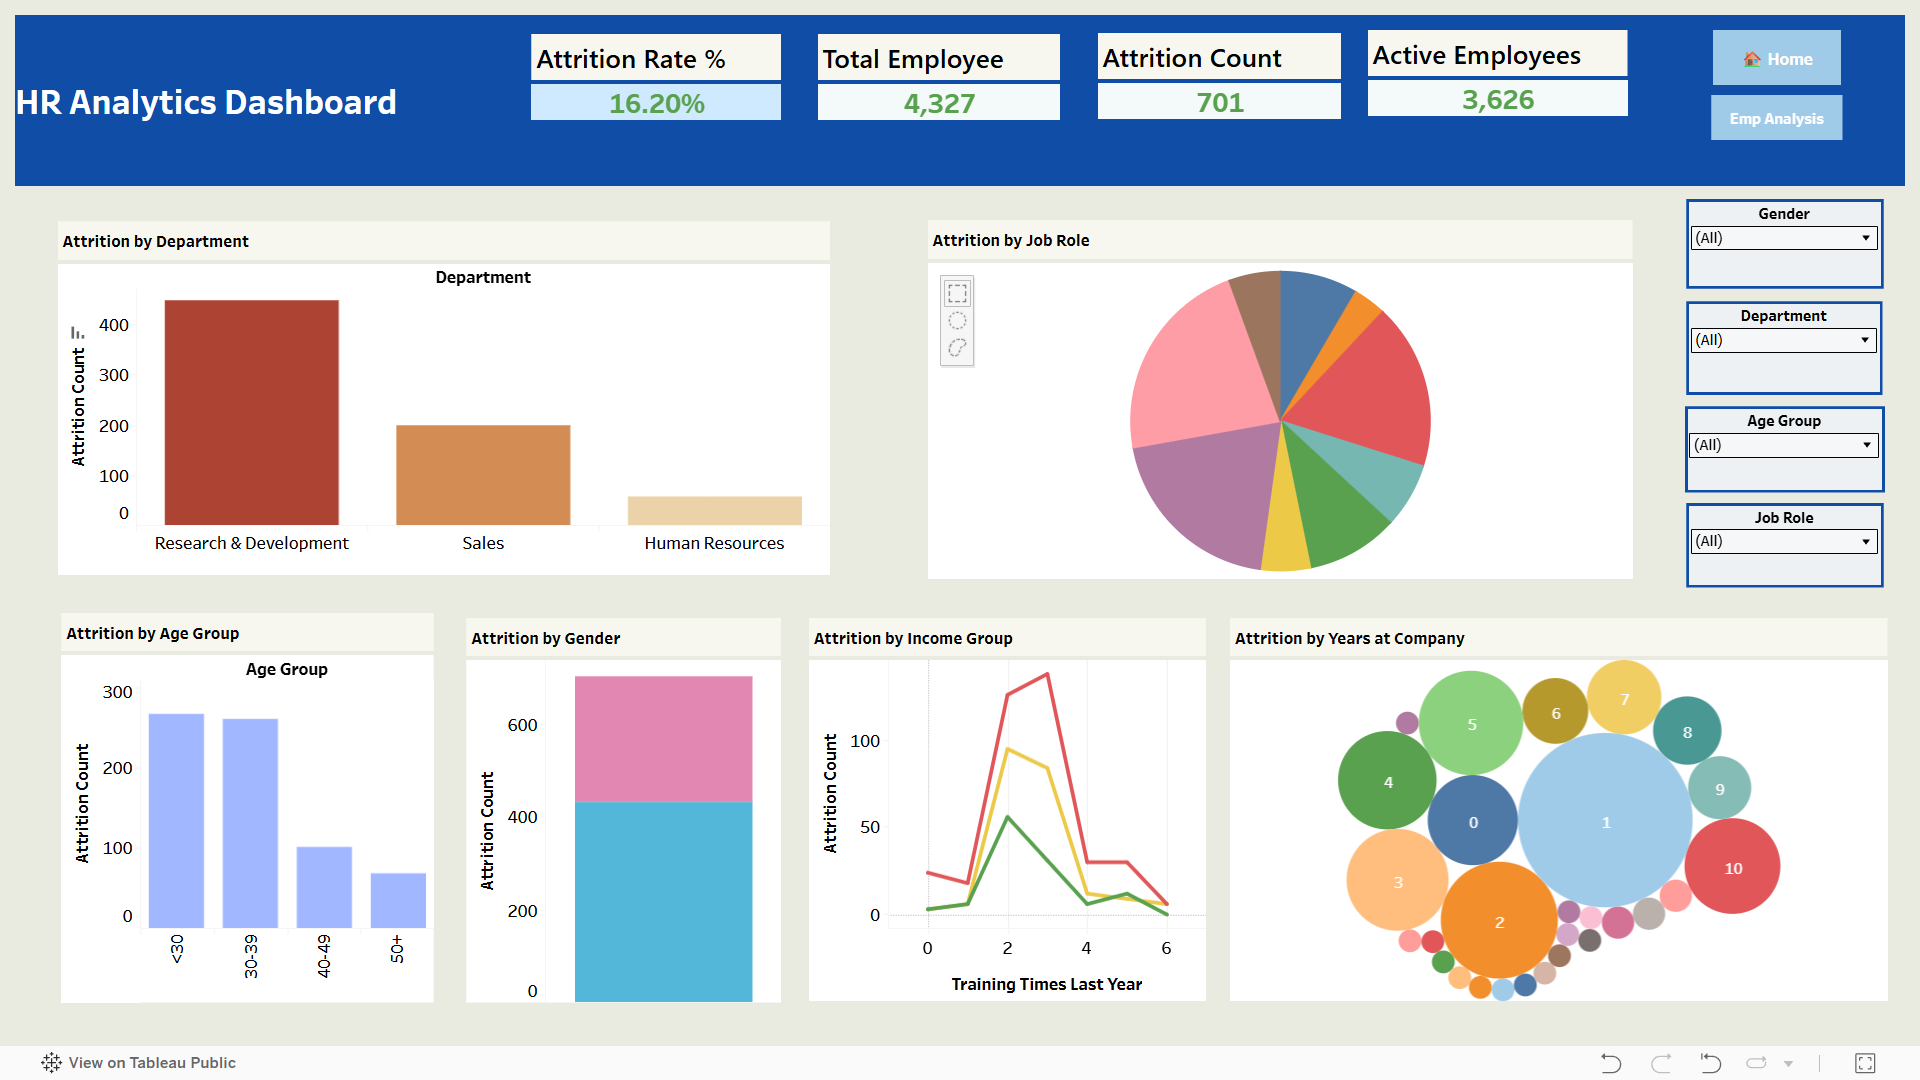

What the dashboard file says about the page in this screenshot:
{"tool":"tableau","page":{"name":"HR Attrition Dashboard","canvas":[1000,1000],"units":"permille","ordinal":1},"visuals":[{"type":"title","box":[4.2,7.7,991.7,139]},{"type":"worksheet","title":"Active Employees","mark":"Automatic","box":[712.2,28.2,135.5,128.1]},{"type":"dashboard-object","box":[891.6,28.2,67.4,52.9]},{"type":"worksheet","title":"Attrition Count","mark":"Automatic","box":[571.9,30.6,126.4,131.6]},{"type":"worksheet","title":"Attrition Rate %","mark":"Automatic","box":[276.9,31.7,130,131.6]},{"type":"worksheet","title":"Total Employee","mark":"Automatic","box":[425.7,31.7,126.4,129.3]},{"type":"dashboard-object","box":[891,90.5,68.6,43.5]},{"type":"dashboard-object","param":"[com.tableau.addfilters].[0.0.0].[https://extensions.tableauusercontent.com/sand","box":[4.2,146.7,991.7,845.6]},{"type":"filter","title":"Attrition by Gender","param":"[federated.17z4ef315er09i13ga2ur0uu32tk].[none:Gender:nk]","box":[878.4,190.4,103,85.8]},{"type":"worksheet","title":"Attrition by Job Role","mark":"Pie","box":[482.8,210.3,367.2,343.1]},{"type":"worksheet","title":"Attrition by Department","mark":"Automatic","rows":["Calculation_0250707587321857"],"cols":["Department"],"box":[30.1,211.5,402.2,338.4]},{"type":"filter","title":"Attrition by Department","param":"[federated.17z4ef315er09i13ga2ur0uu32tk].[none:Department:nk]","box":[878.4,287.9,102.4,89.3]},{"type":"filter","title":"Attrition by Age Group","param":"[federated.17z4ef315er09i13ga2ur0uu32tk].[none:Calculation_0250707588259844:nk]","box":[877.8,387.8,104.2,83.4]},{"type":"filter","title":"Attrition by Job Role","param":"[federated.17z4ef315er09i13ga2ur0uu32tk].[none:JobRole:nk]","box":[878.4,480.6,103,81.1]},{"type":"worksheet","title":"Attrition by Age Group","mark":"Automatic","rows":["Calculation_0250707587321857"],"cols":["Calculation_0250707588259844"],"box":[31.9,585.2,193.9,372.5]},{"type":"worksheet","title":"Attrition by Gender","mark":"Automatic","rows":["Calculation_0250707587321857"],"box":[242.6,589.9,171.6,367.8]},{"type":"worksheet","title":"Attrition by Income Group","mark":"Automatic","rows":["Calculation_0250707587321857"],"cols":["Calculation_0250707588415493"],"box":[428.1,589.9,189,366.6]},{"type":"worksheet","title":"Attrition by Years at Company","mark":"Circle","box":[630.3,589.9,352.8,366.6]}]}

Visuals, with their boxes on the dashboard's canvas, which has no fixed pixel size, in thousandths of its width and height (x1, y1, x2, y2). These are canvas units, not pixel positions in the 1920x1080 screenshot, which may show the page scaled, cropped or inside an application window:
title: Rect(4, 8, 996, 147)
"Active Employees" worksheet: Rect(712, 28, 848, 156)
dashboard-object: Rect(892, 28, 959, 81)
"Attrition Count" worksheet: Rect(572, 31, 698, 162)
"Attrition Rate %" worksheet: Rect(277, 32, 407, 163)
"Total Employee" worksheet: Rect(426, 32, 552, 161)
dashboard-object: Rect(891, 90, 960, 134)
dashboard-object: Rect(4, 147, 996, 992)
"Attrition by Gender" filter: Rect(878, 190, 981, 276)
"Attrition by Job Role" worksheet (Pie marks): Rect(483, 210, 850, 553)
"Attrition by Department" worksheet: Rect(30, 212, 432, 550)
"Attrition by Department" filter: Rect(878, 288, 981, 377)
"Attrition by Age Group" filter: Rect(878, 388, 982, 471)
"Attrition by Job Role" filter: Rect(878, 481, 981, 562)
"Attrition by Age Group" worksheet: Rect(32, 585, 226, 958)
"Attrition by Gender" worksheet: Rect(243, 590, 414, 958)
"Attrition by Income Group" worksheet: Rect(428, 590, 617, 956)
"Attrition by Years at Company" worksheet (Circle marks): Rect(630, 590, 983, 956)
